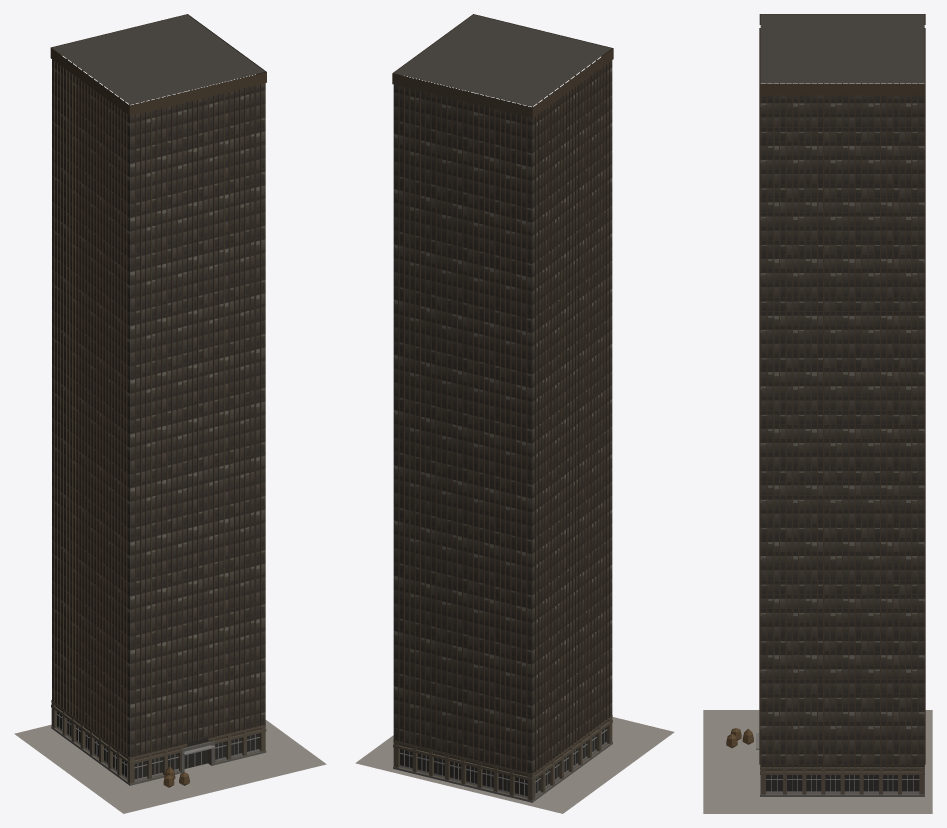
File: safeco_plaza.glb
3 renders of one model, left to right at view 1: azimuth 30°, elevation 25°; view 2: azimuth 150°, elevation 25°; view 3: azimuth 270°, elevation 25°, orthographic. The views are drawn at different scales.
Parts seen in each view (by area): view 1: safeco_plaza; view 2: safeco_plaza; view 3: safeco_plaza.
Boxes of the visible parts, x1,y1,x2,y2 form: safeco_plaza: [14, 14, 326, 813]; safeco_plaza: [355, 14, 674, 813]; safeco_plaza: [703, 14, 932, 813].
Size of the model in its own units: 60.01 by 192 by 56.
Materials: 2 (2 with a texture image).
